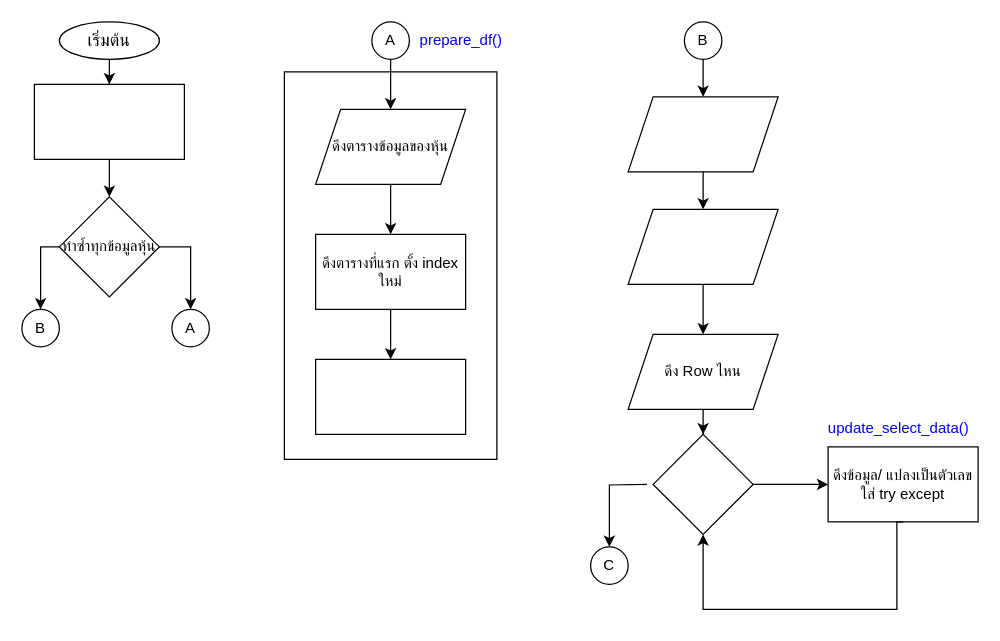
Image size: 1000x641. Some labels were removed from this diagram. The centre of each missing label's shape, as x and y in pixels:
ดึง Column ไหน: point 702,246
ดึงตารางที่ 2 ตั้ง index ใหม่: point 390,396
ดึงตารางไหน: point 702,134
ดึงทุกหุ้นใน Dict: point 702,483
รับข้อมูล Dict ของแต่ละหุ้น: point 108,121
